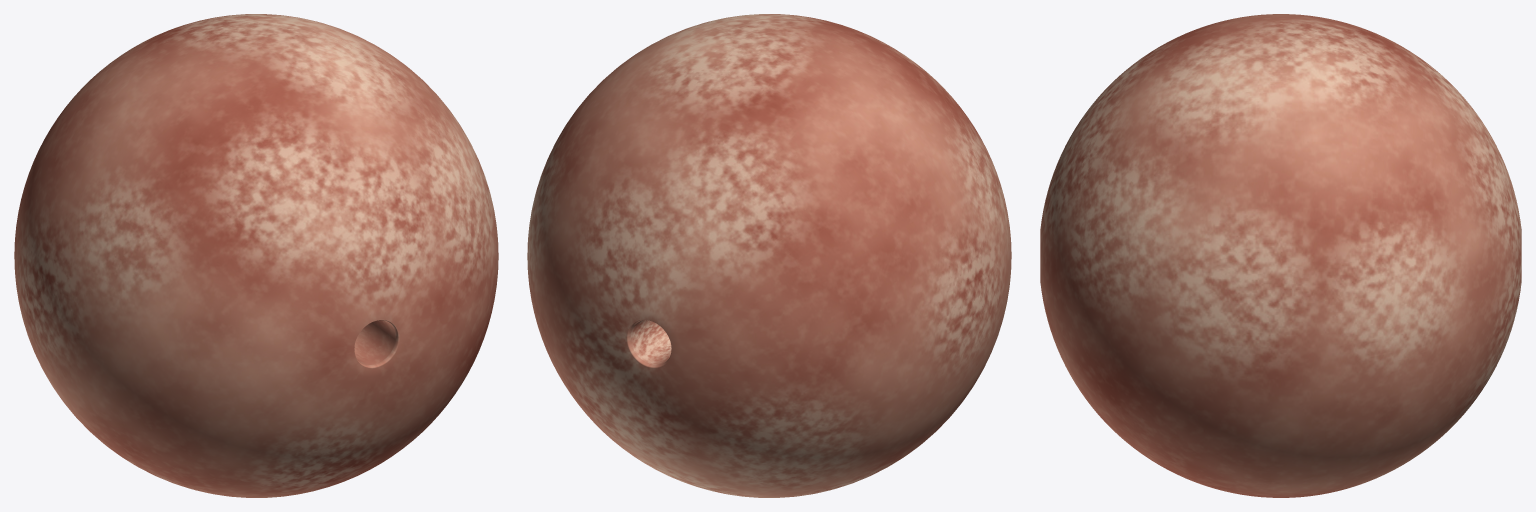
Rendered from flower-agate-10mm.glb.
3 renders of one model, left to right at view 1: azimuth 30°, elevation 25°; view 2: azimuth 150°, elevation 25°; view 3: azimuth 270°, elevation 25°, orthographic.
Visible parts, largest first — view 1: flower-agate.001; view 2: flower-agate.001; view 3: flower-agate.001.
Boxes of the visible parts, x1=… form: flower-agate.001: x1=14, y1=14, x2=498, y2=497; flower-agate.001: x1=527, y1=14, x2=1011, y2=497; flower-agate.001: x1=1040, y1=14, x2=1521, y2=497.
Size of the model in its own units: 0.01 by 0.01 by 0.00994.
Materials: 2 (1 with a texture image).
